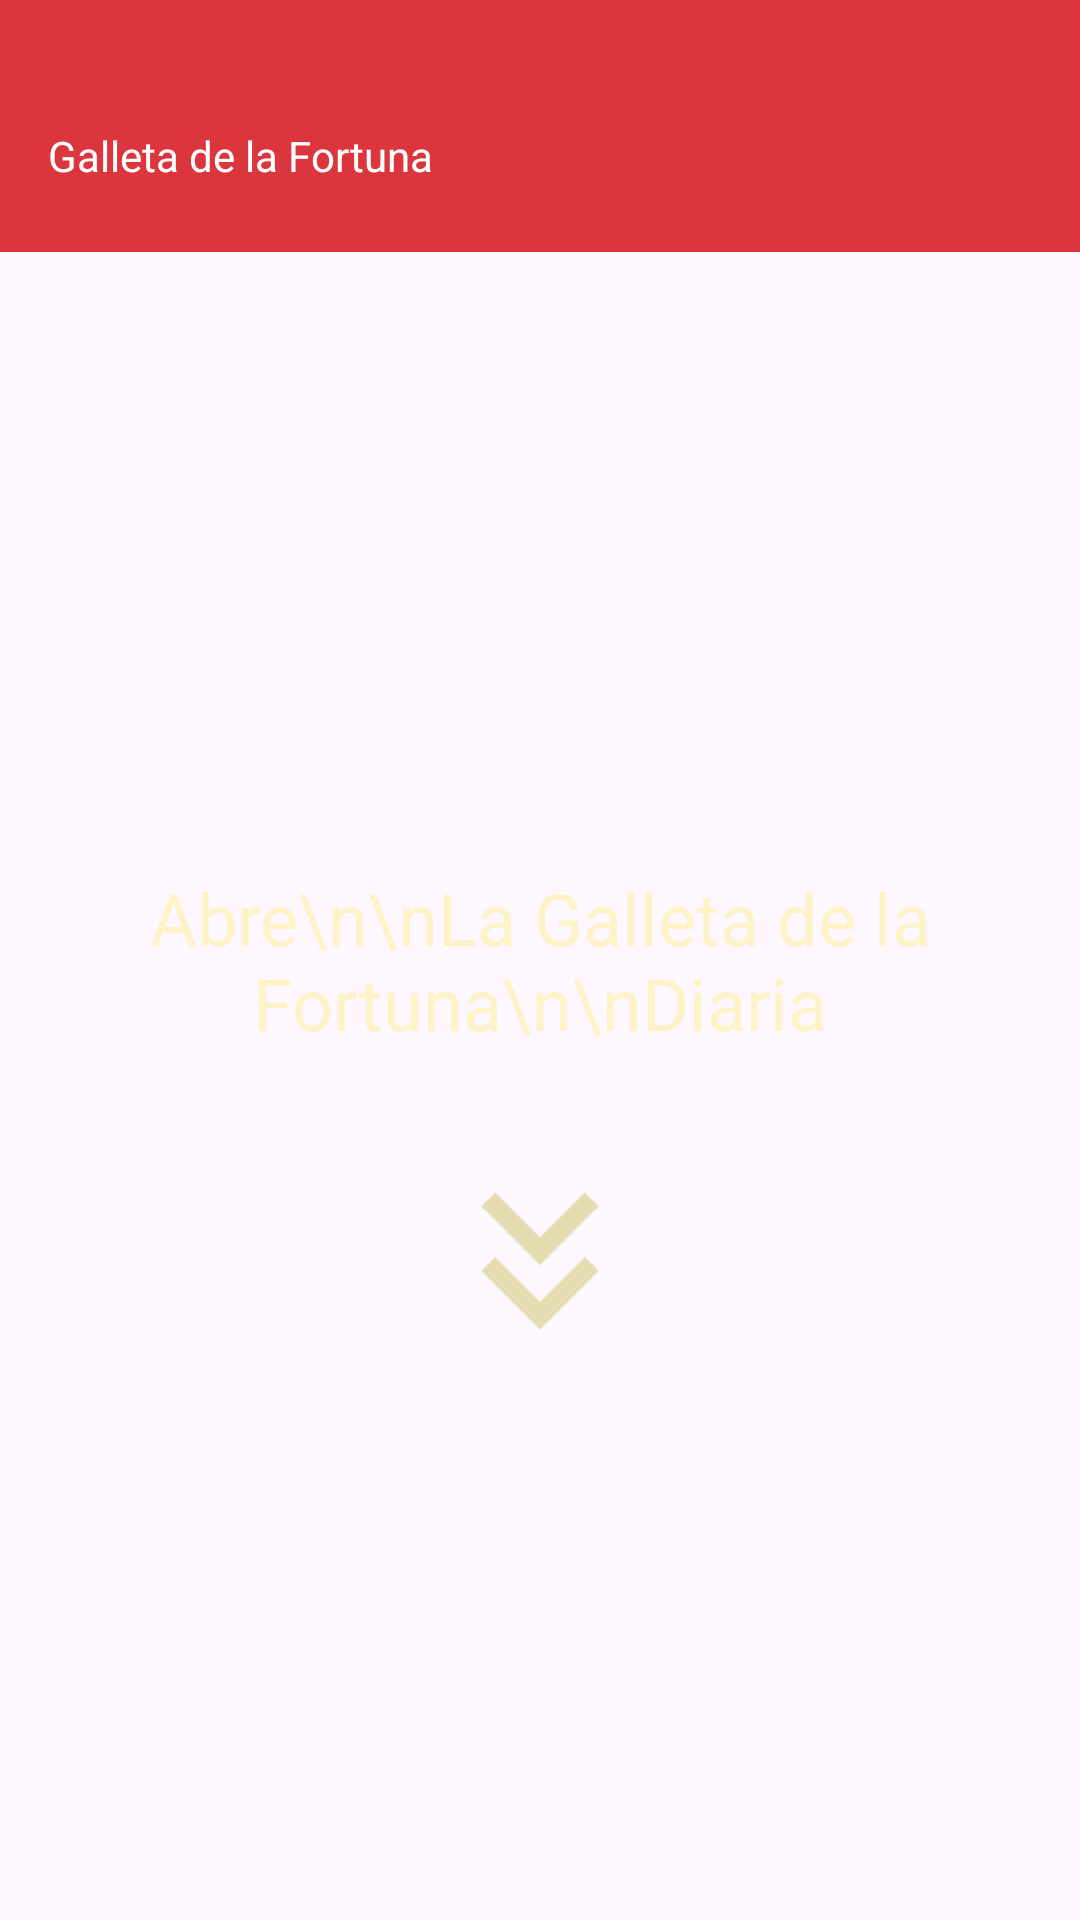

Where icons sit on this 1080x1920 app screen, as (x1, y1, x2, y2):
flecha: (481, 1193, 599, 1329)
